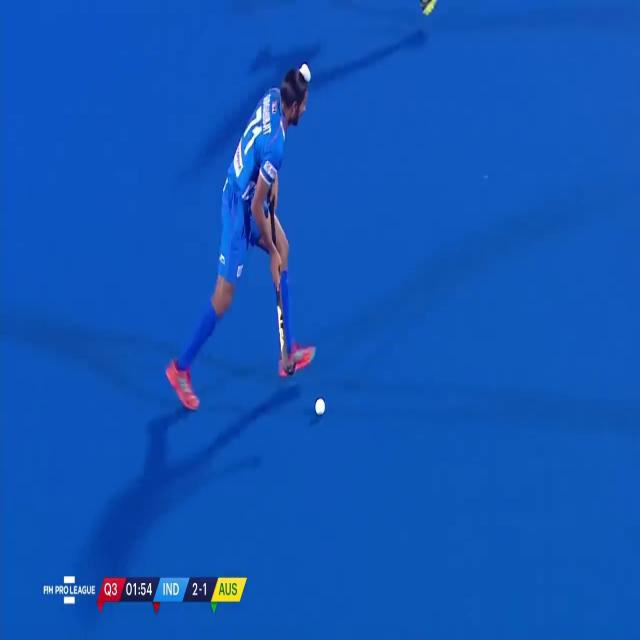ball: (307, 390, 329, 429)
